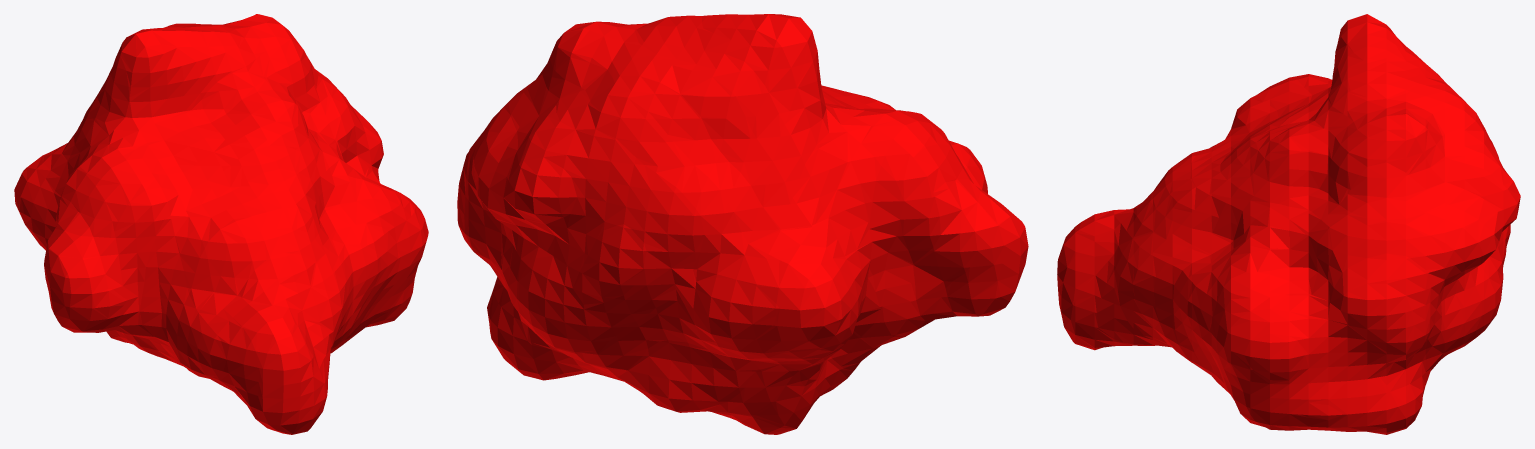
Rendered from cysD_coarse.dae.
3 renders of one model, left to right at view 1: azimuth 30°, elevation 25°; view 2: azimuth 150°, elevation 25°; view 3: azimuth 270°, elevation 25°, orthographic. The views are drawn at different scales.
Visible parts, largest first — view 1: cysD; view 2: cysD; view 3: cysD.
Boxes of the visible parts, bbox=[...] form: cysD: bbox=[14, 14, 428, 434]; cysD: bbox=[457, 14, 1028, 434]; cysD: bbox=[1057, 14, 1520, 434].
Size of the model in its own units: 59.56 by 49.48 by 61.11.
